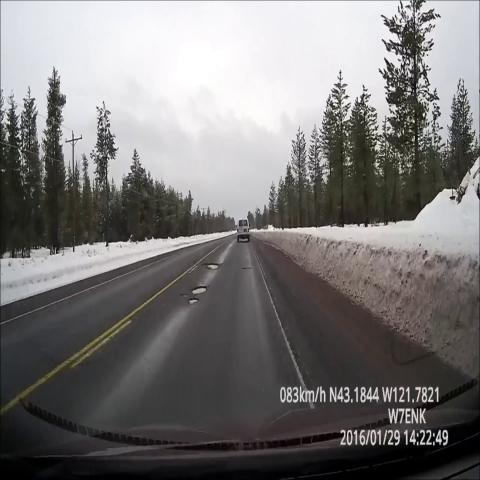pothole: (177, 280, 212, 316), (202, 258, 226, 276), (236, 258, 258, 275)
